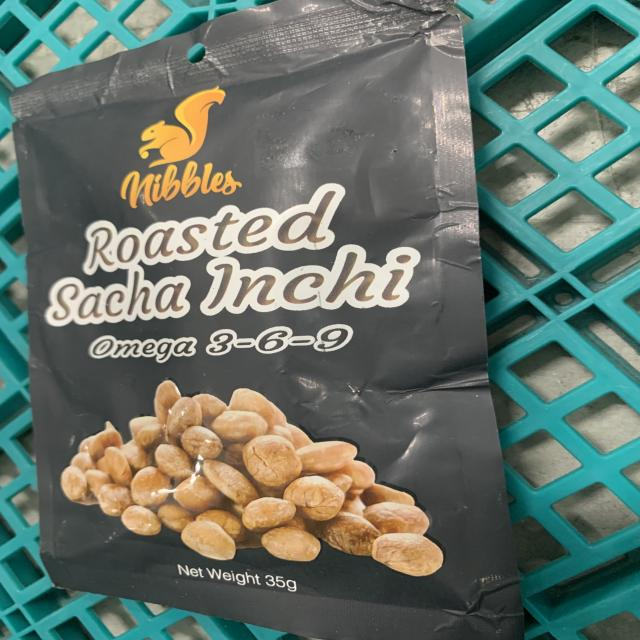object_name: (18, 14, 510, 636)
